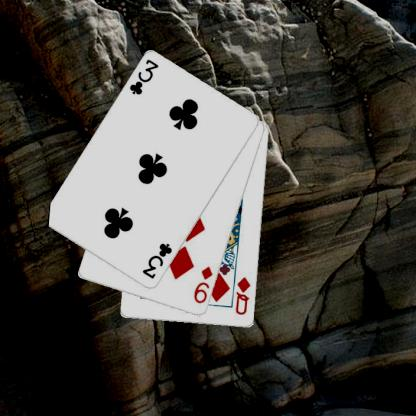3C: (139, 240, 174, 281), (127, 57, 160, 97)
9D: (191, 264, 214, 306)
QD: (233, 274, 252, 317)
